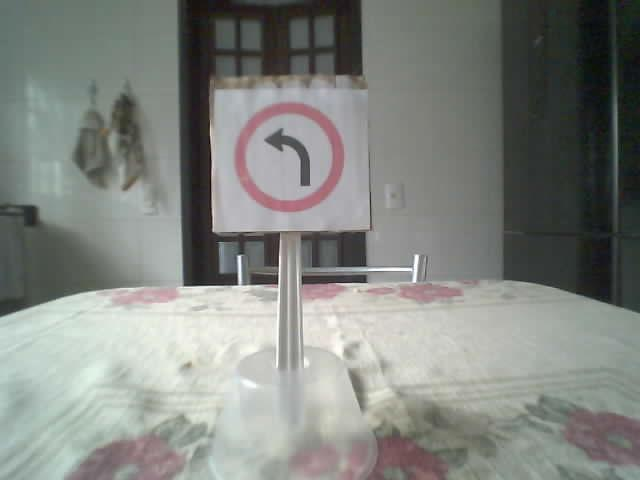R-25a_esquerda: (233, 101, 346, 213)
